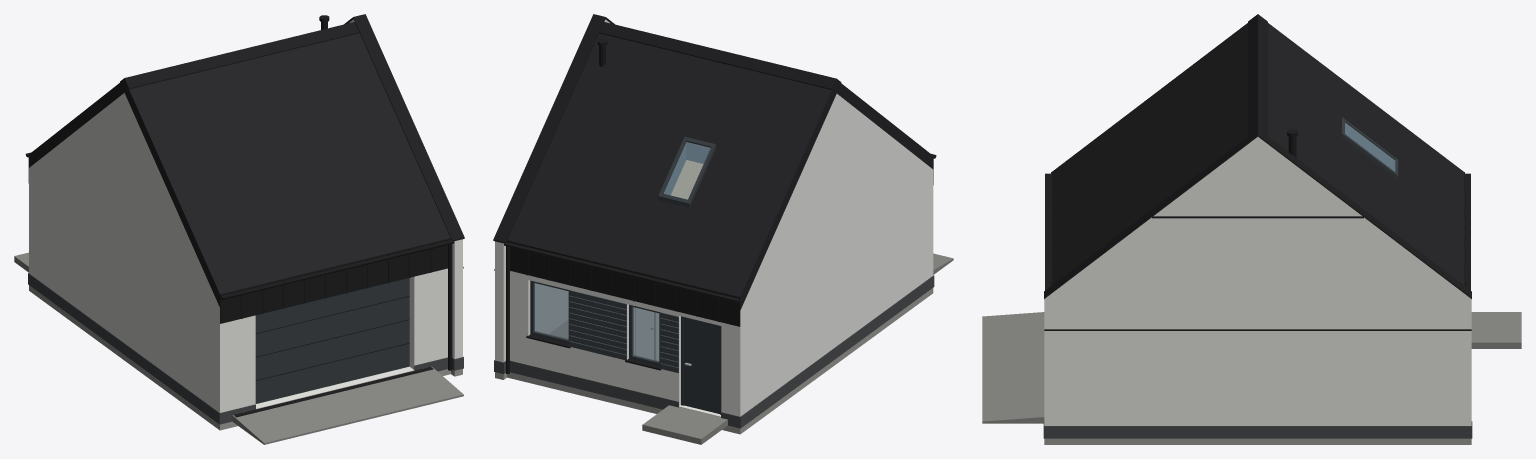
The model's file is garaz_antracyt.obj.
The picture shows the model from 3 angles, left to right: view 1: azimuth 30°, elevation 25°; view 2: azimuth 150°, elevation 25°; view 3: azimuth 270°, elevation 25°; orthographic projection. The views are drawn at different scales.
Parts seen in each view (by area): view 1: Dach_–_połać_frontowa, Ściana_szczytowa_lewa_(od_strony_domu), BG_<BG_brama_garażowa_segmentowa_400x225>, Ściana_frontowa, Podjazd_przed_bramą_(spadek_8%), Pas_blachy_frontowy, Opierzenie_ściany_szczytowej, Cokół_–_tynk_mozaikowy, Gąsior, Płyta_fundamentowa, Dach_–_połać_ogrodowa, Ściana_szczytowa_prawa (+5 smaller); view 2: Dach_–_połać_ogrodowa, Ściana_szczytowa_lewa_(od_strony_domu), Ściana_ogrodowa, Pas_blachy_ogrodowy, Cokół_–_tynk_mozaikowy, Deska_elewacyjna_–_ogród, D1_<D1_drzwi_zewnętrzne_90x210>, Opierzenie_ściany_szczytowej, Gąsior, Ściana_szczytowa_prawa, OP_<OP_okno_dachowe_78x148>, Płyta_fundamentowa (+10 smaller); view 3: Ściana_szczytowa_prawa, Dach_–_połać_frontowa, Dach_–_połać_ogrodowa, Podjazd_przed_bramą_(spadek_8%), Cokół_–_tynk_mozaikowy, Opierzenie_ściany_szczytowej, Płyta_fundamentowa, Gąsior, Podest_przy_drzwiach_D1, OP_<OP_okno_dachowe_78x148>, Płyta_pod_ścianą_szczytową, Pas_blachy_na_szczycie_–_dolny (+3 smaller).
Part boxes in pixels (left/top/right/bottom): Dach_–_połać_frontowa: left=124, top=33, right=450, bottom=307; Ściana_szczytowa_lewa_(od_strony_domu): left=33, top=93, right=215, bottom=408; BG_<BG_brama_garażowa_segmentowa_400x225>: left=255, top=278, right=409, bottom=403; Ściana_frontowa: left=215, top=268, right=447, bottom=412; Podjazd_przed_bramą_(spadek_8%): left=232, top=366, right=463, bottom=444; Pas_blachy_frontowy: left=220, top=238, right=451, bottom=323; Opierzenie_ściany_szczytowej: left=344, top=14, right=464, bottom=241; Cokół_–_tynk_mozaikowy: left=28, top=273, right=463, bottom=424; Gąsior: left=120, top=22, right=359, bottom=89; Płyta_fundamentowa: left=29, top=285, right=450, bottom=430; Dach_–_połać_ogrodowa: left=29, top=79, right=124, bottom=167; Ściana_szczytowa_prawa: left=349, top=19, right=462, bottom=358; Dach_–_połać_ogrodowa: left=507, top=33, right=836, bottom=309; Ściana_szczytowa_lewa_(od_strony_domu): left=745, top=93, right=928, bottom=412; Ściana_ogrodowa: left=510, top=271, right=745, bottom=417; Pas_blachy_ogrodowy: left=507, top=240, right=740, bottom=326; Cokół_–_tynk_mozaikowy: left=494, top=275, right=934, bottom=428; Deska_elewacyjna_–_ogród: left=569, top=290, right=678, bottom=373; D1_<D1_drzwi_zewnętrzne_90x210>: left=681, top=316, right=721, bottom=414; Opierzenie_ściany_szczytowej: left=493, top=14, right=614, bottom=243; Gąsior: left=599, top=22, right=841, bottom=89; Ściana_szczytowa_prawa: left=495, top=19, right=609, bottom=362; OP_<OP_okno_dachowe_78x148>: left=658, top=136, right=715, bottom=207; Płyta_fundamentowa: left=507, top=288, right=933, bottom=434; Ściana_szczytowa_prawa: left=1044, top=137, right=1471, bottom=425; Dach_–_połać_frontowa: left=1052, top=23, right=1247, bottom=284; Dach_–_połać_ogrodowa: left=1268, top=23, right=1463, bottom=284; Podjazd_przed_bramą_(spadek_8%): left=982, top=312, right=1044, bottom=423; Cokół_–_tynk_mozaikowy: left=1043, top=421, right=1472, bottom=438; Opierzenie_ściany_szczytowej: left=1044, top=129, right=1471, bottom=298; Płyta_fundamentowa: left=1052, top=438, right=1463, bottom=444; Gąsior: left=1248, top=14, right=1267, bottom=135; Podest_przy_drzwiach_D1: left=1471, top=312, right=1521, bottom=348; OP_<OP_okno_dachowe_78x148>: left=1342, top=117, right=1398, bottom=180; Płyta_pod_ścianą_szczytową: left=1044, top=438, right=1471, bottom=444; Pas_blachy_na_szczycie_–_dolny: left=1044, top=329, right=1471, bottom=330.
Size of what is drawn, in the model's own units: 6.05 by 6.89 by 10.85.
